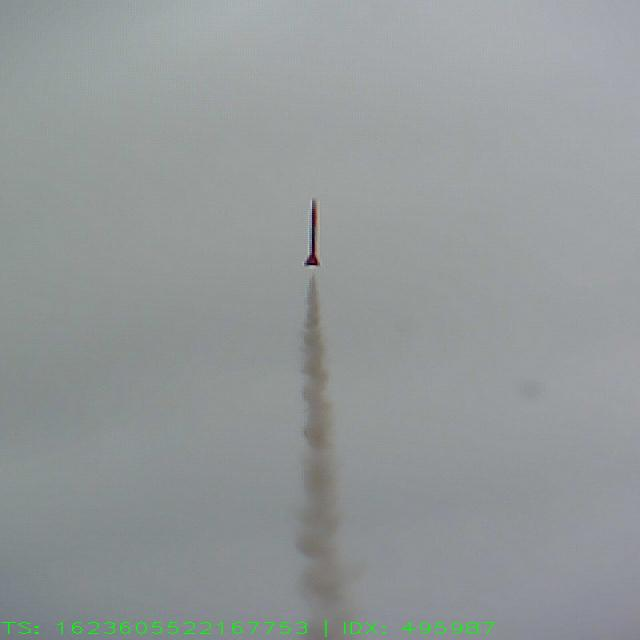Rocket: (302, 198, 321, 266)
